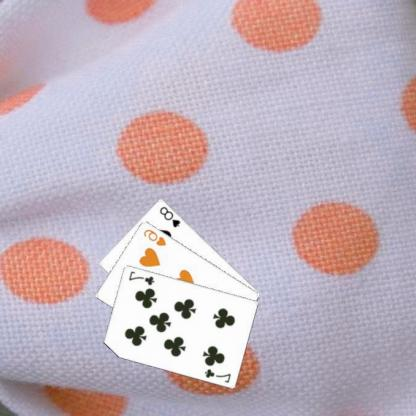6H: (142, 226, 170, 247)
7C: (128, 268, 157, 287), (204, 366, 233, 384)
8S: (159, 204, 184, 229)
